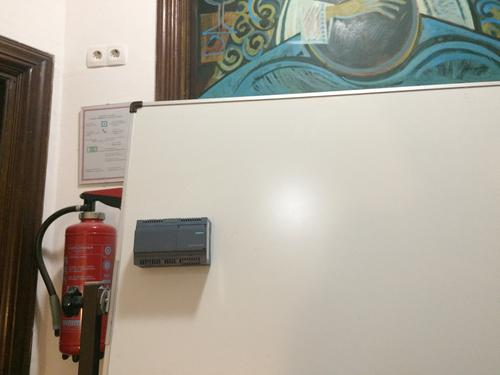iot2000: (132, 216, 212, 268)
